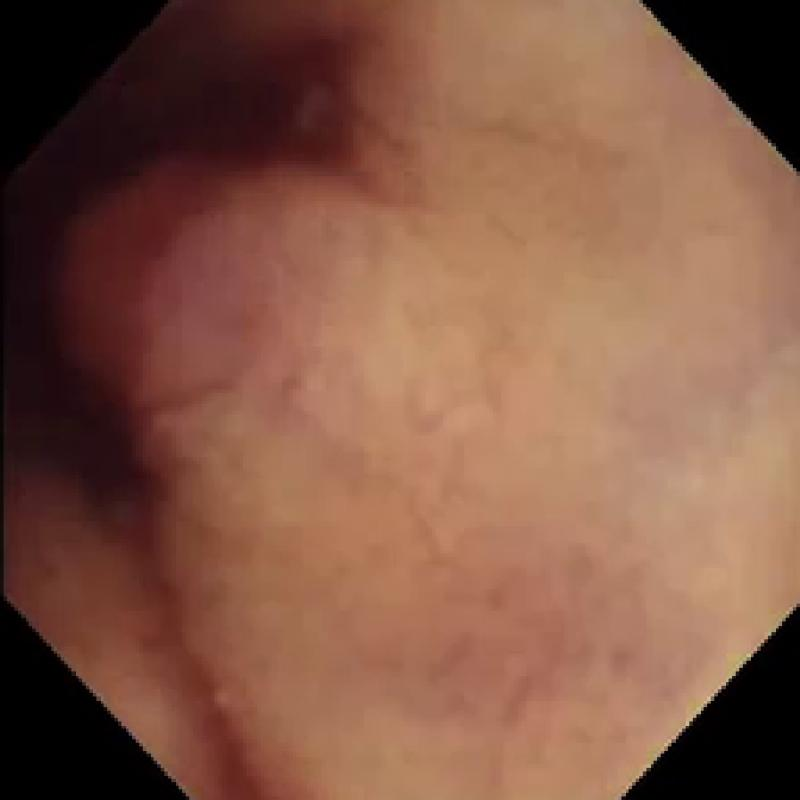bleeding: (0, 6, 328, 479)
